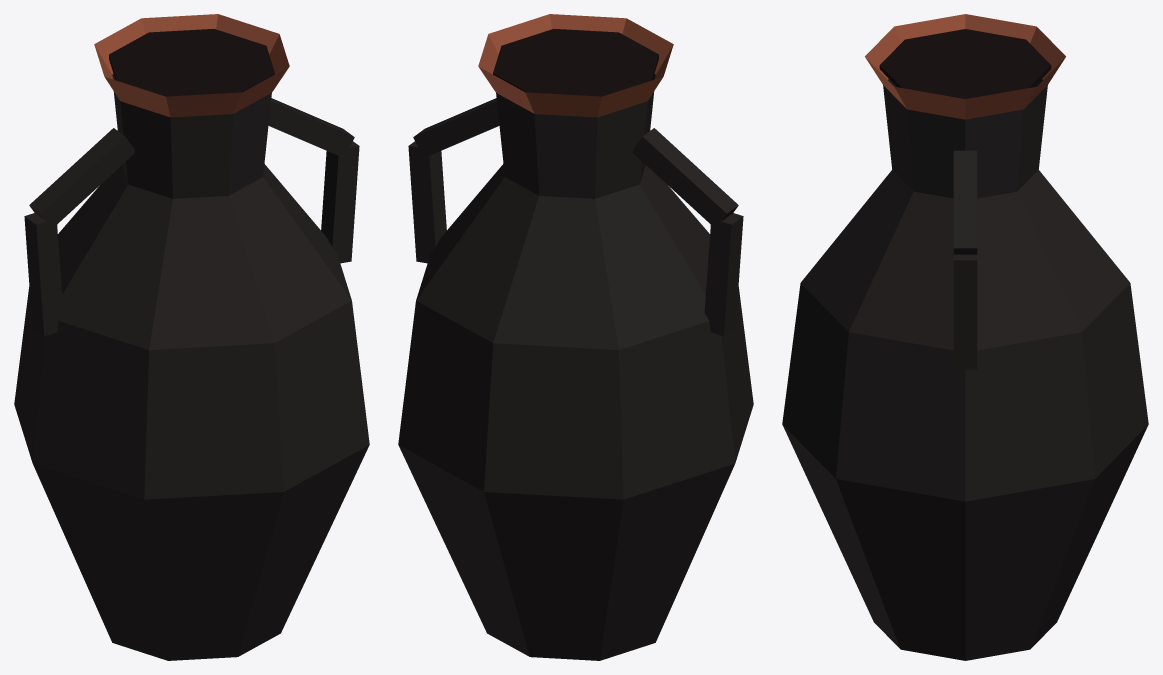
The model's file is vase-10.glb.
3 views of the same model, side by side, from view 1: azimuth 30°, elevation 25°; view 2: azimuth 150°, elevation 25°; view 3: azimuth 270°, elevation 25° (orthographic).
Visible parts, largest first — view 1: vase_10; view 2: vase_10; view 3: vase_10.
Boxes of the visible parts, box(x1,y1,x2,y2) form: vase_10: box(14, 14, 369, 660); vase_10: box(398, 14, 753, 660); vase_10: box(782, 14, 1148, 660).
Bounding box in the file's own units: 0.3153 × 0.5295 × 0.3109.
